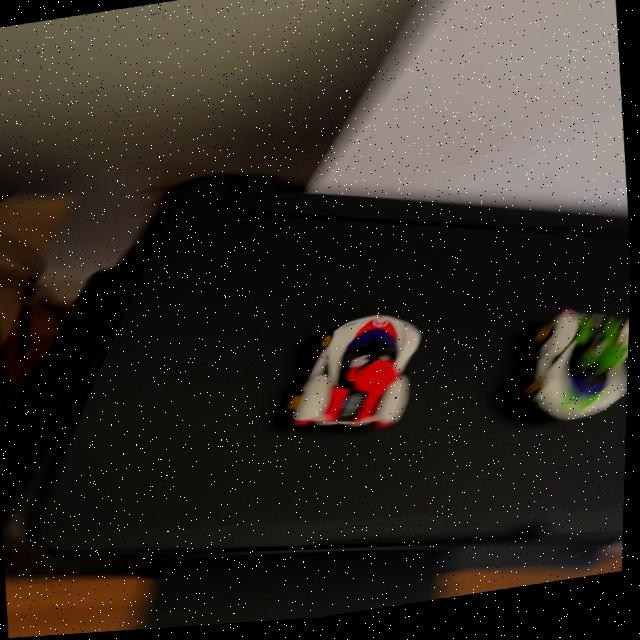mario: (259, 304, 446, 458)
yoshi: (500, 299, 632, 446)
